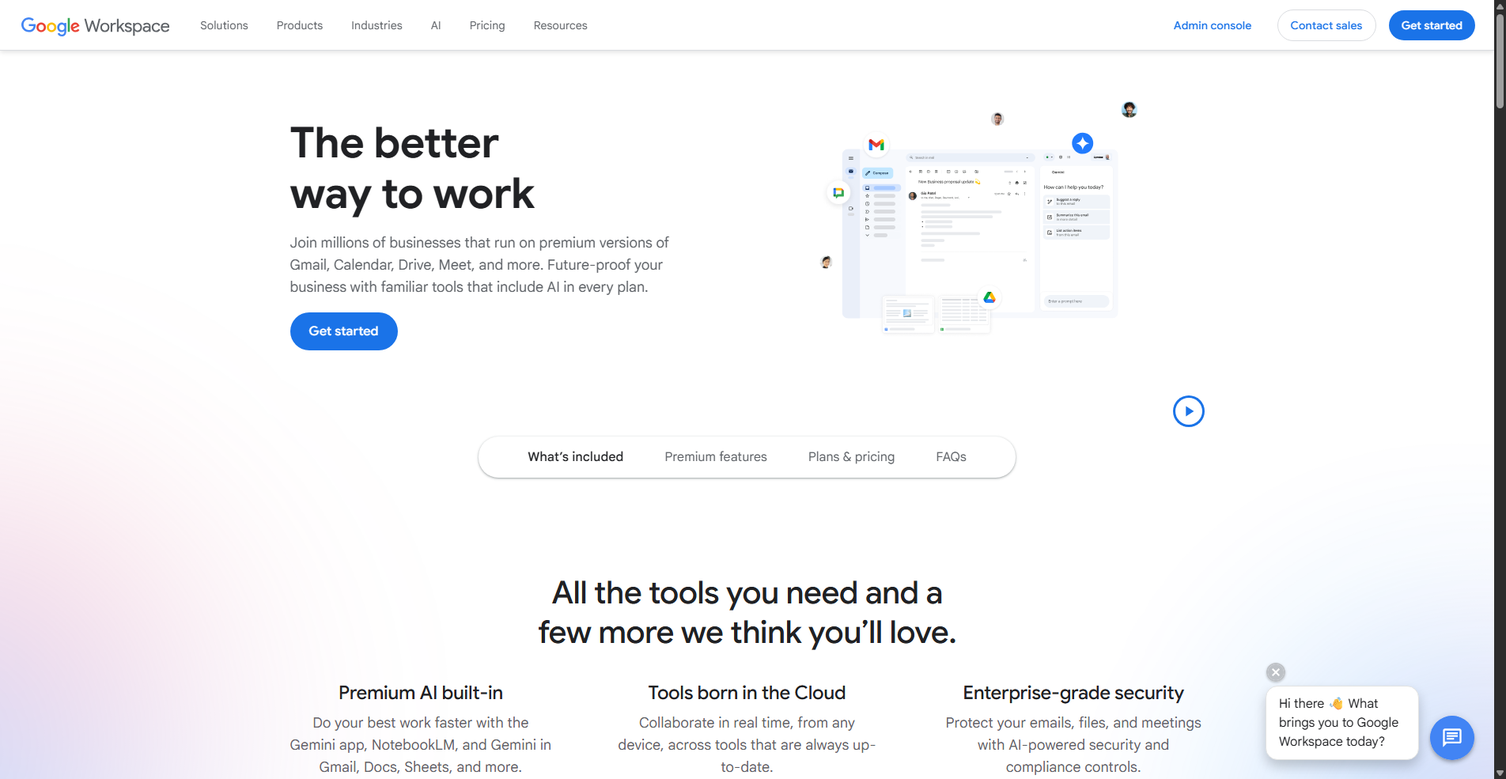button: (290, 312, 398, 350), (1277, 9, 1376, 41), (1161, 10, 1264, 40), (1389, 10, 1475, 40), (665, 74, 742, 106), (1430, 716, 1474, 760), (177, 70, 215, 108), (252, 70, 290, 108), (331, 70, 369, 108), (516, 70, 554, 108), (309, 322, 379, 341), (1174, 17, 1252, 34), (1290, 17, 1363, 34), (470, 8, 505, 43), (1401, 17, 1462, 34), (679, 81, 729, 99), (431, 8, 441, 43)
link: (659, 412, 724, 556), (659, 556, 724, 700), (311, 79, 411, 166), (586, 305, 686, 392), (760, 407, 827, 534), (659, 286, 724, 412), (430, 281, 500, 396), (430, 396, 500, 501), (447, 79, 550, 149), (447, 270, 550, 340), (447, 340, 550, 410), (332, 281, 394, 396), (447, 201, 550, 270), (311, 166, 411, 236), (311, 305, 411, 375), (311, 444, 411, 514), (586, 131, 686, 201), (311, 236, 411, 305), (311, 375, 411, 444), (659, 181, 724, 286), (569, 181, 622, 297), (569, 516, 622, 632), (569, 297, 622, 412), (430, 194, 500, 281), (332, 396, 394, 494), (760, 320, 827, 407), (569, 412, 622, 516), (332, 194, 394, 281), (332, 494, 394, 581), (447, 149, 550, 201), (235, 194, 295, 281), (586, 79, 686, 131), (586, 201, 686, 253), (586, 253, 686, 305), (647, 440, 785, 475), (760, 181, 827, 251), (760, 251, 827, 320), (510, 440, 641, 475), (791, 440, 912, 475), (386, 222, 465, 274), (386, 335, 465, 387), (386, 181, 465, 222), (386, 387, 465, 428), (19, 15, 173, 36), (501, 241, 570, 282), (386, 304, 465, 335), (386, 274, 465, 304), (386, 428, 465, 458), (919, 440, 984, 475), (501, 181, 570, 211), (501, 211, 570, 241)
